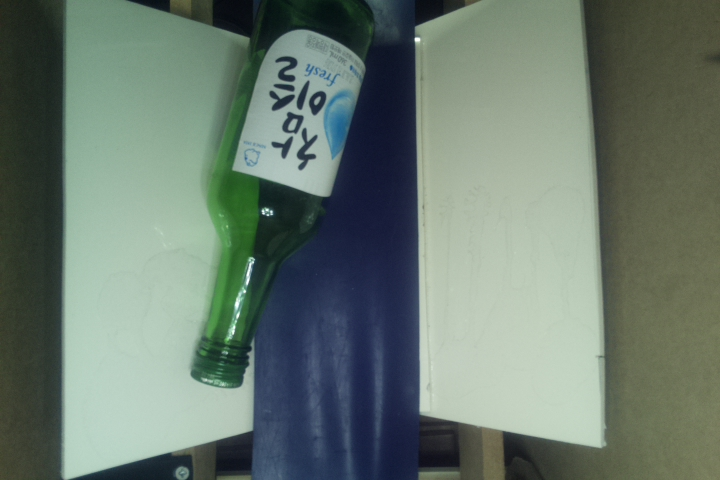soju: (190, 1, 381, 393)
